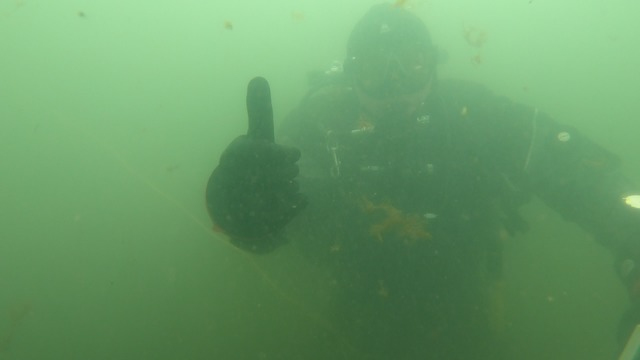Diver: (140, 5, 602, 359)
Hand: (186, 69, 336, 264)
Head: (320, 9, 452, 157)
